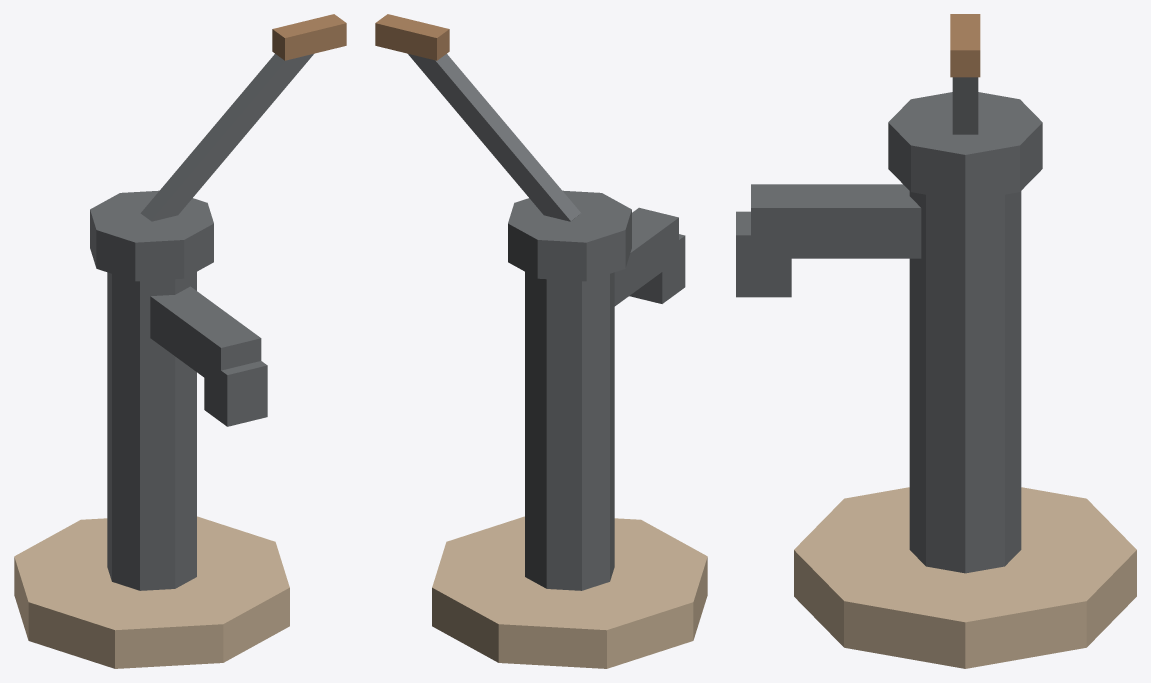
Rendered from frontier-hand-water-pump__242.glb.
3 views of the same model, side by side, from view 1: azimuth 30°, elevation 25°; view 2: azimuth 150°, elevation 25°; view 3: azimuth 270°, elevation 25° (orthographic). The views are drawn at different scales.
Parts seen in each view (by area): view 1: frontier-post-well-pump; view 2: frontier-post-well-pump; view 3: frontier-post-well-pump.
Part boxes in pixels (x1,y1,x2,y2): frontier-post-well-pump: (14, 14, 346, 668); frontier-post-well-pump: (375, 14, 707, 668); frontier-post-well-pump: (736, 14, 1136, 668).
Size of the model in its own units: 1.01 by 1.69 by 0.935.
